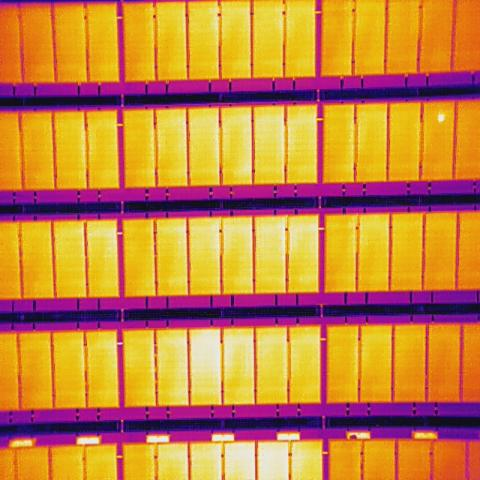fault: (436, 112, 446, 123)
